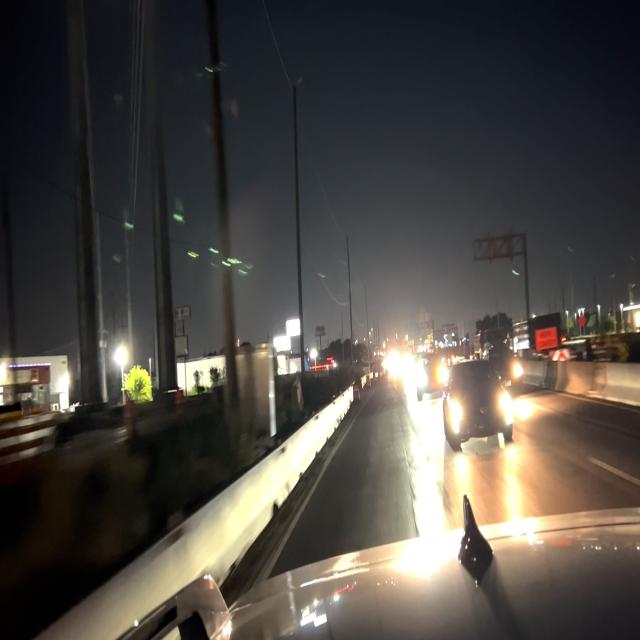back-of-sign: (469, 225, 528, 267)
